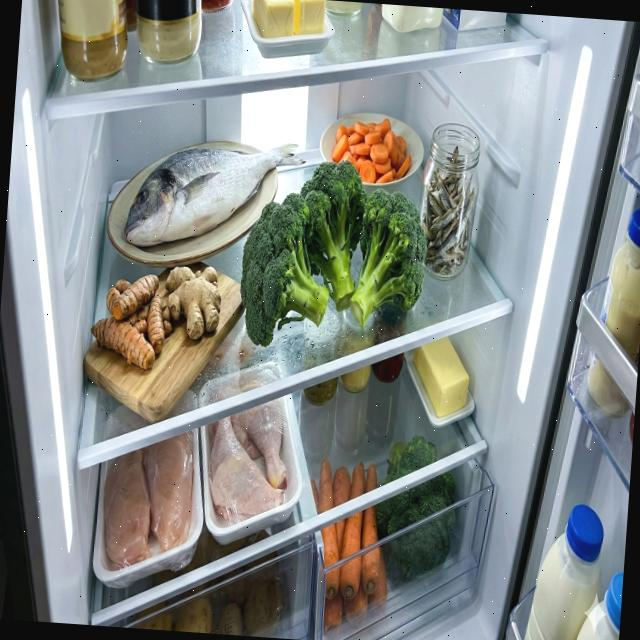anchovies: (417, 142, 478, 278)
brocolli: (235, 152, 432, 359), (370, 431, 460, 588)
carrot: (298, 455, 395, 640), (331, 114, 414, 186)
chicken: (99, 424, 196, 574), (204, 394, 293, 526)
fish: (122, 131, 308, 258)
ginger: (162, 264, 224, 342)
turmeric: (87, 268, 169, 372)
